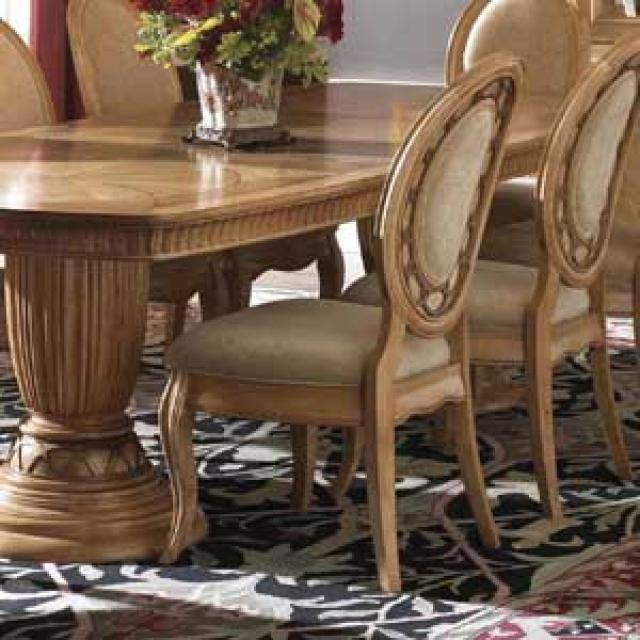chair: (160, 50, 503, 594), (324, 28, 638, 520)
